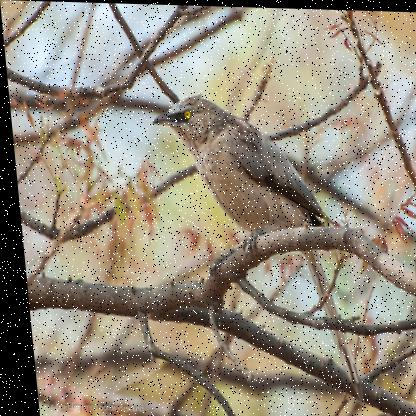Burung: (149, 93, 358, 401)
